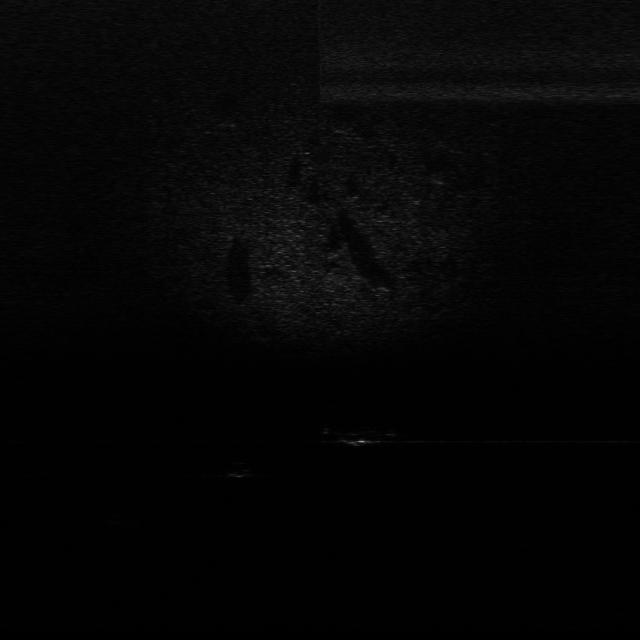ball: (222, 460, 254, 479)
circle cage: (102, 508, 144, 531)
human body: (322, 420, 406, 448)
